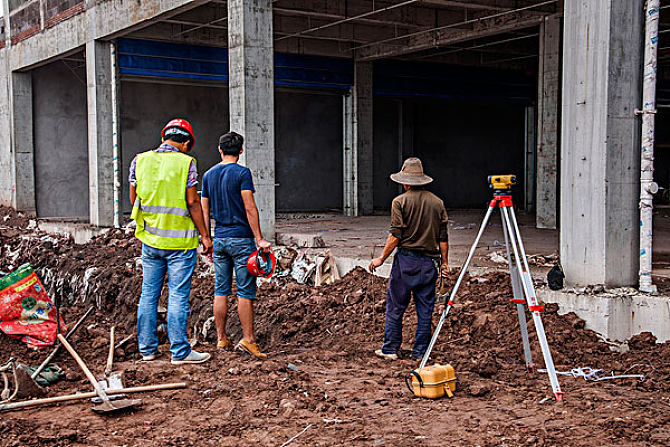helmet: (247, 248, 274, 279), (162, 118, 195, 134)
person: (126, 116, 213, 365), (368, 156, 451, 367), (200, 129, 273, 363)
vest: (137, 150, 200, 250)
